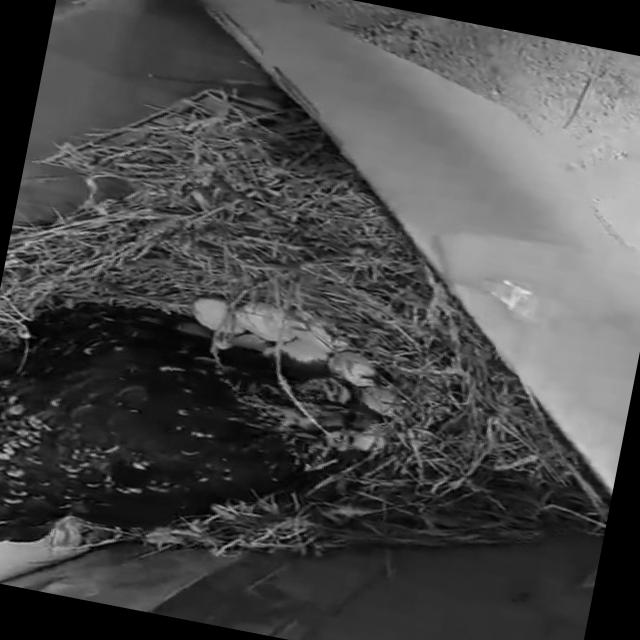crouch chicken: (0, 253, 377, 640)
